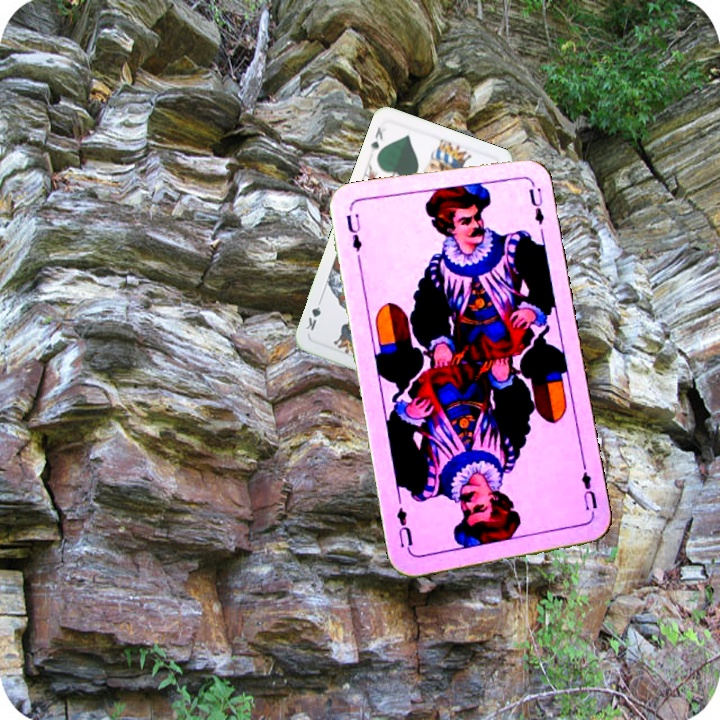EU: (576, 467, 600, 519), (342, 210, 365, 255)
GK: (366, 123, 388, 155)
